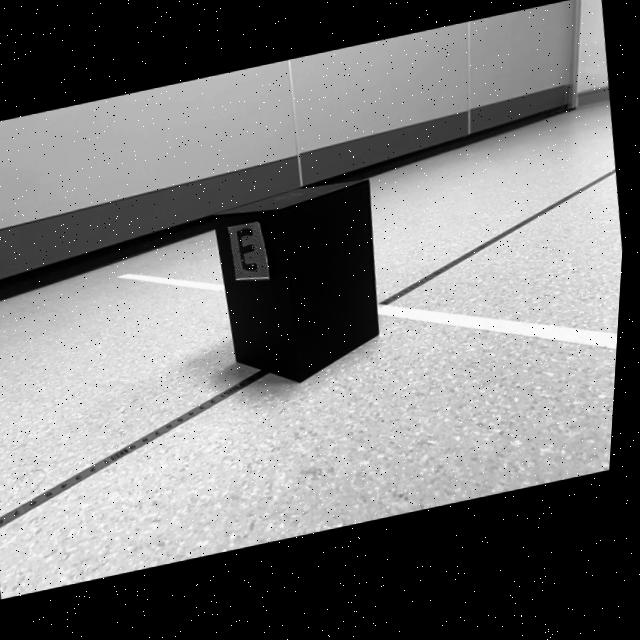E: (240, 231, 262, 275)
